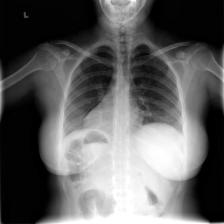normal: (57, 39, 190, 174)
